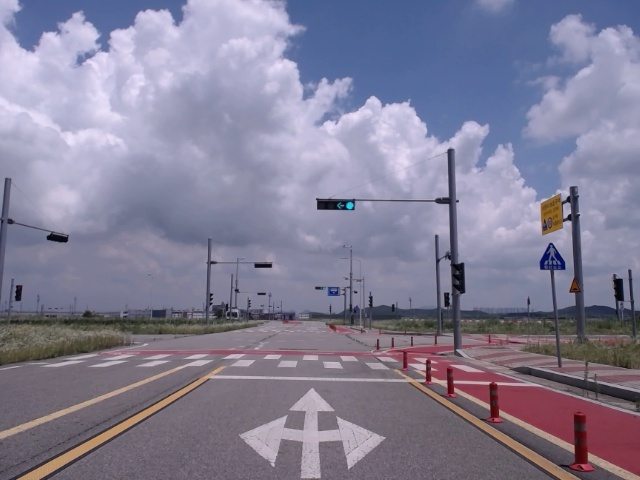all_green_4: (314, 197, 358, 213)
